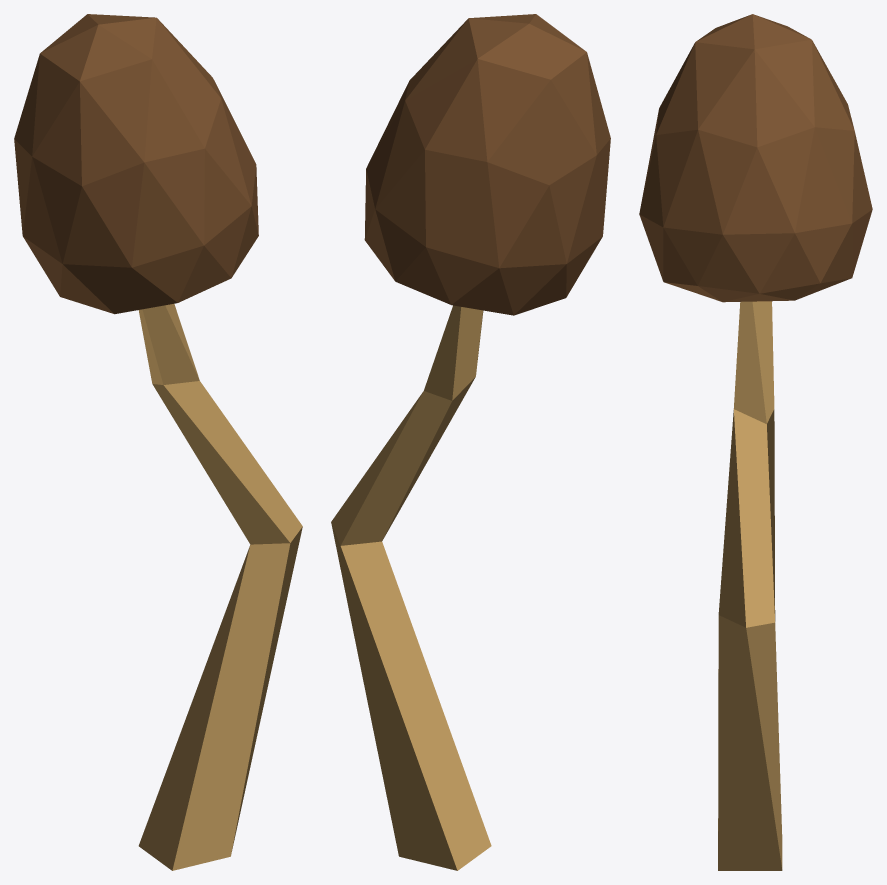
Rendered from Mushroom_6.fbx.
3 renders of one model, left to right at view 1: azimuth 30°, elevation 25°; view 2: azimuth 150°, elevation 25°; view 3: azimuth 270°, elevation 25°, orthographic. The views are drawn at different scales.
Parts seen in each view (by area): view 1: Mushroom_6; view 2: Mushroom_6; view 3: Mushroom_6.
Boxes of the visible parts, x1=… form: Mushroom_6: x1=14, y1=14, x2=302, y2=870; Mushroom_6: x1=331, y1=14, x2=610, y2=870; Mushroom_6: x1=639, y1=14, x2=872, y2=870.
Size of the model in its own units: 31.47 by 95.08 by 25.02.
